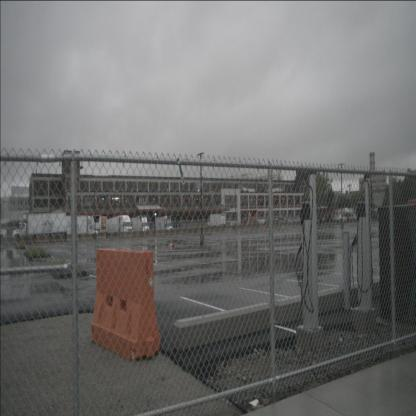barrier: (91, 249, 161, 361)
cone: (170, 242, 174, 247), (282, 224, 284, 232)
